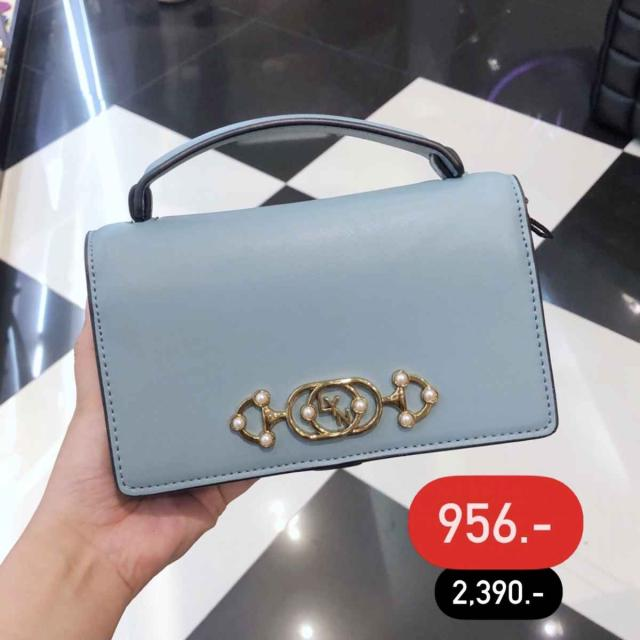handbag: (82, 159, 561, 499)
